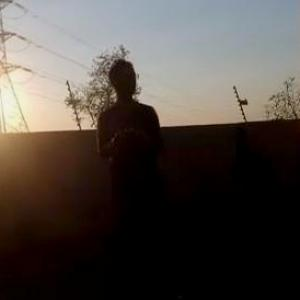follow: (92, 52, 194, 299)
